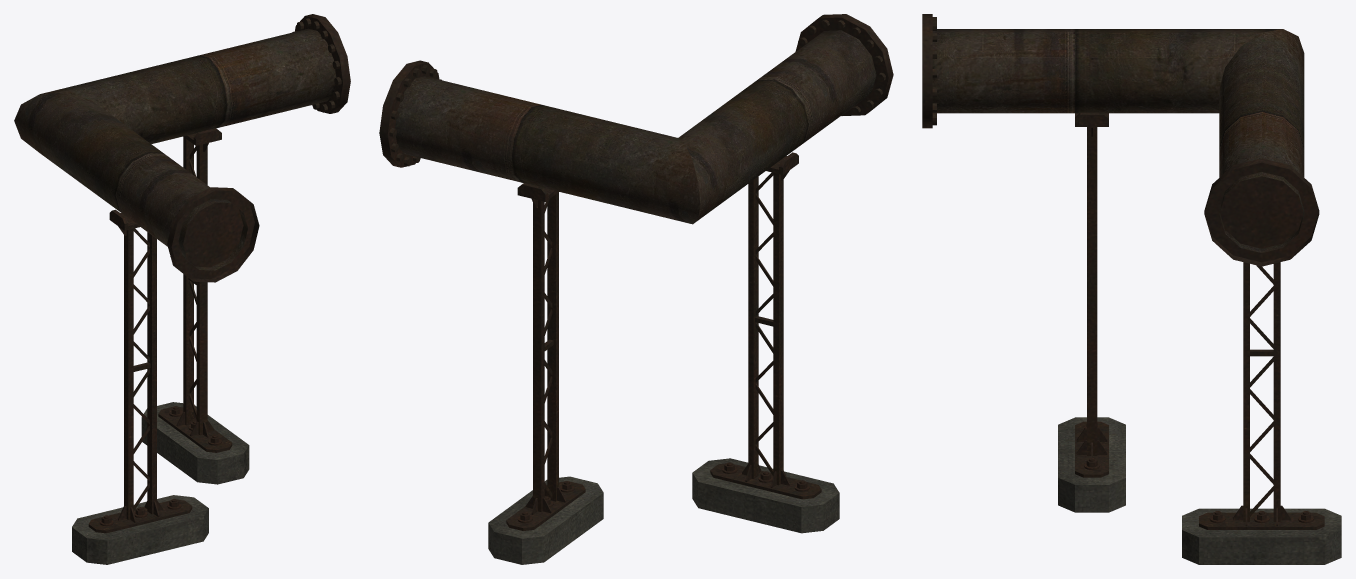
File: pipe_cx_3.obj
3 renders of one model, left to right at view 1: azimuth 30°, elevation 25°; view 2: azimuth 150°, elevation 25°; view 3: azimuth 270°, elevation 25°, orthographic. The views are drawn at different scales.
Parts seen in each view (by area): view 1: pipe_cx_3; view 2: pipe_cx_3; view 3: pipe_cx_3.
Part boxes in pixels (x1,y1,x2,y2): pipe_cx_3: (14,14,350,564); pipe_cx_3: (379,14,893,564); pipe_cx_3: (922,14,1341,564).
Bounding box in the file's own units: 2.47 × 2.99 × 2.47.
